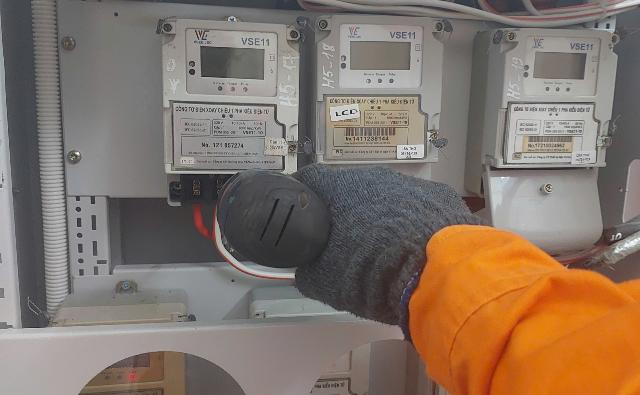gloves: (239, 142, 495, 344)
